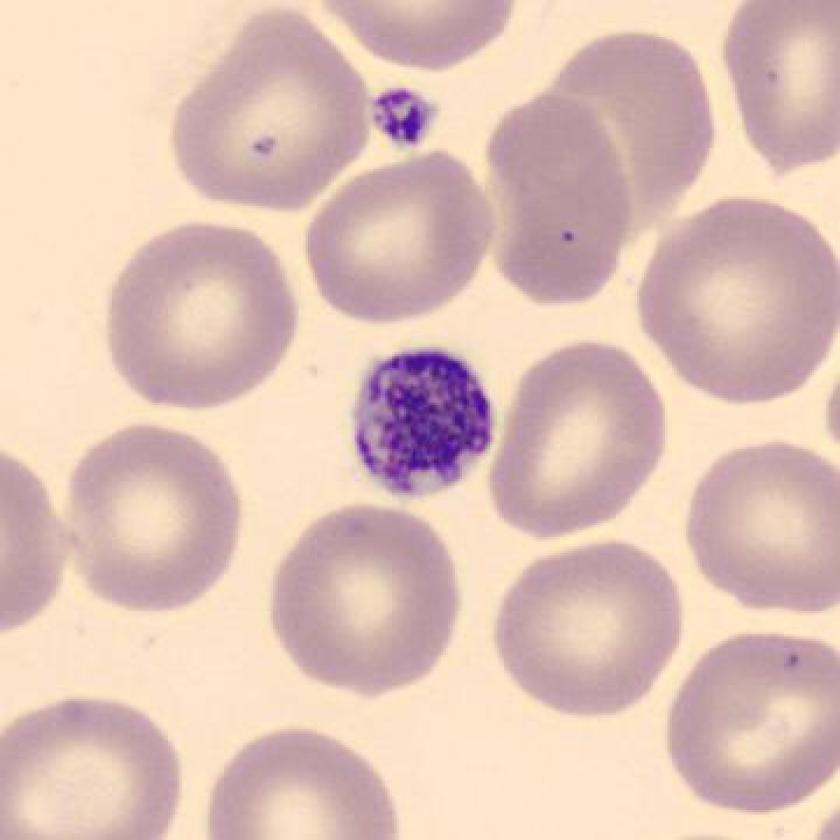platelets: (344, 339, 500, 510), (360, 80, 447, 154)
